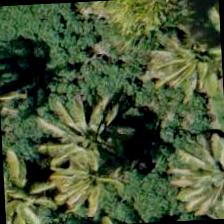Kelapa_Sawit: (38, 96, 133, 191), (152, 9, 222, 104), (175, 130, 223, 220), (2, 151, 62, 223)
